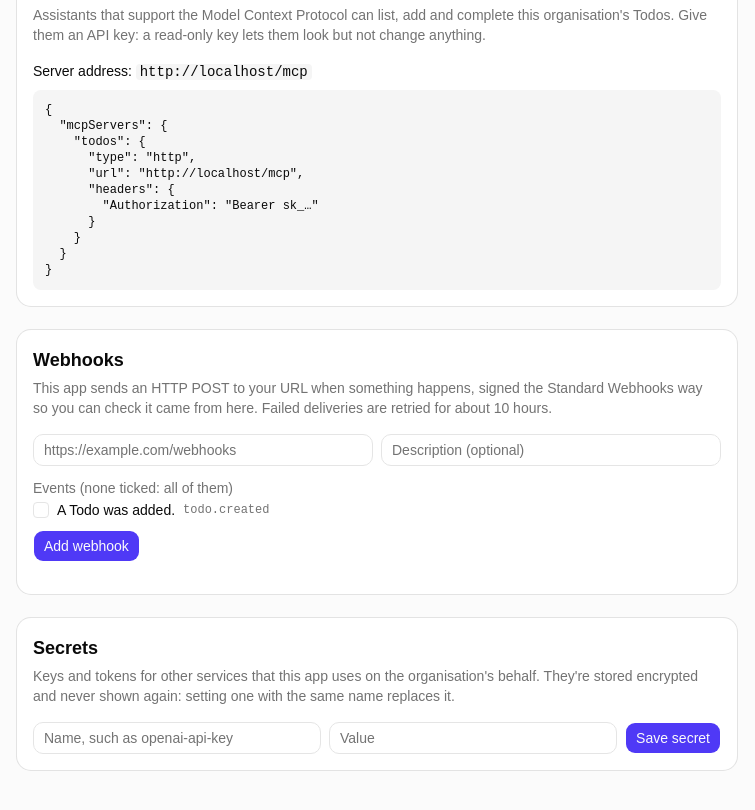
Test: IntegrationsPage › adds a webhook for chosen events and shows its signing secret
(page scrolled)
Type "https://example.com/hooks" into the field named "Webhook URL" at (203, 450), box x1=33 y1=434 x2=373 y2=466
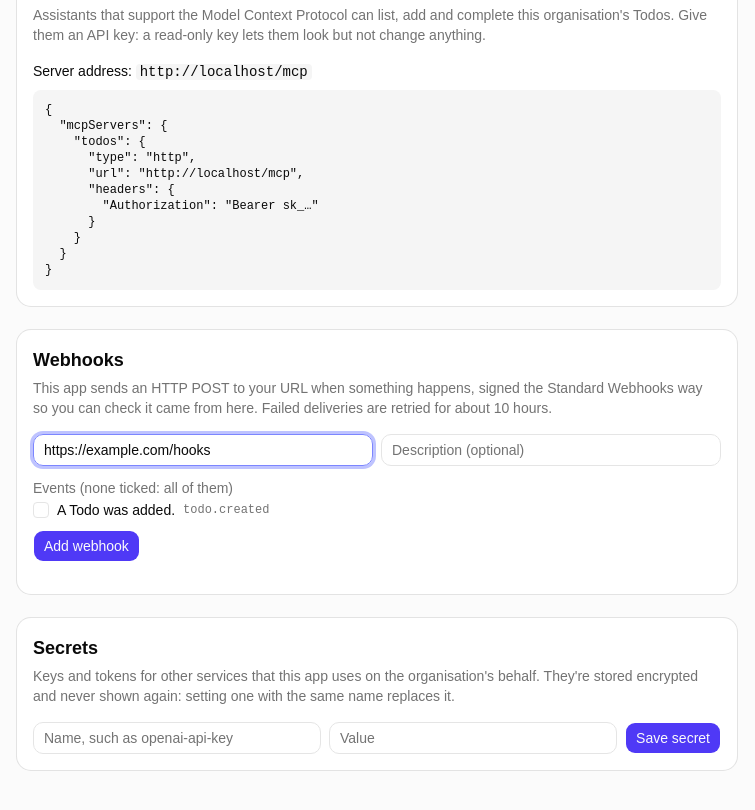
Click the checkbox named "A Todo was added" at (41, 510), box x1=33 y1=502 x2=49 y2=518
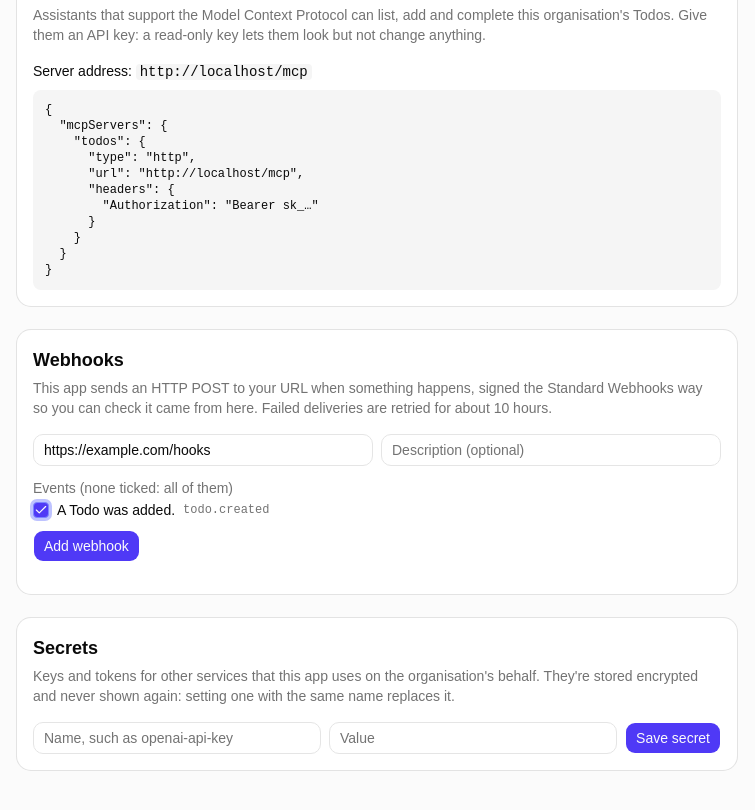
Click the button "Add webhook" at (86, 546), box x1=33 y1=530 x2=140 y2=562
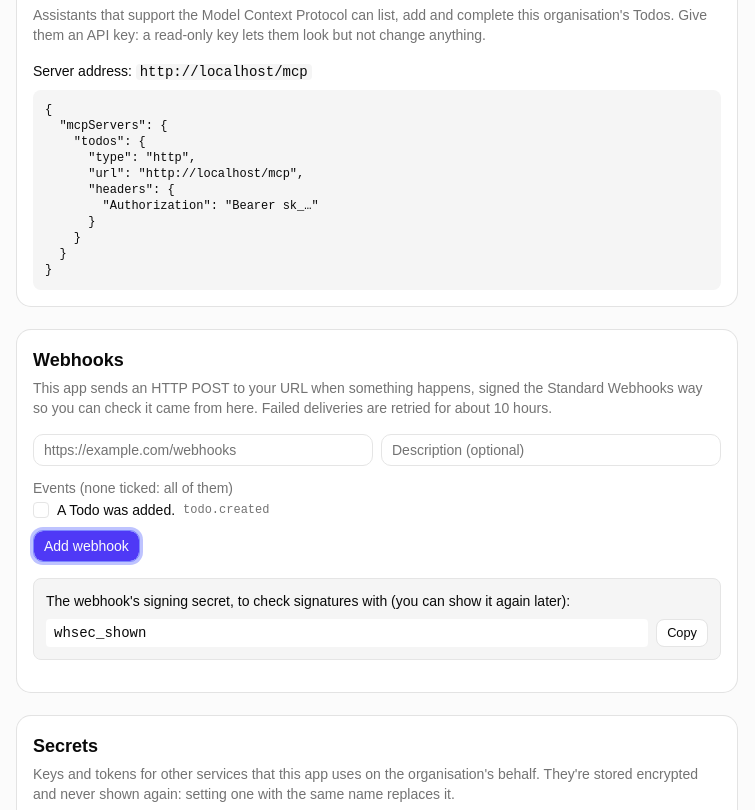
Now the text named "signing secret" reads "whsec_shown", box x1=54 y1=625 x2=146 y2=641
